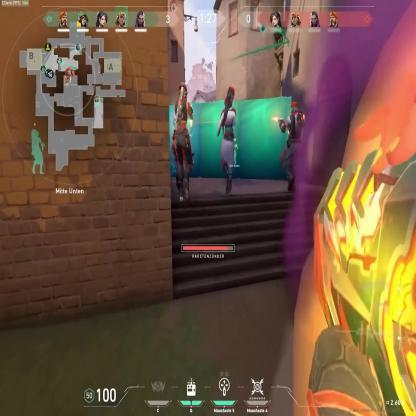enemy: (278, 98, 303, 199), (174, 78, 192, 200), (218, 86, 235, 197), (173, 113, 185, 200)
enemy_head: (178, 82, 188, 98), (290, 101, 299, 116), (226, 93, 233, 109)
